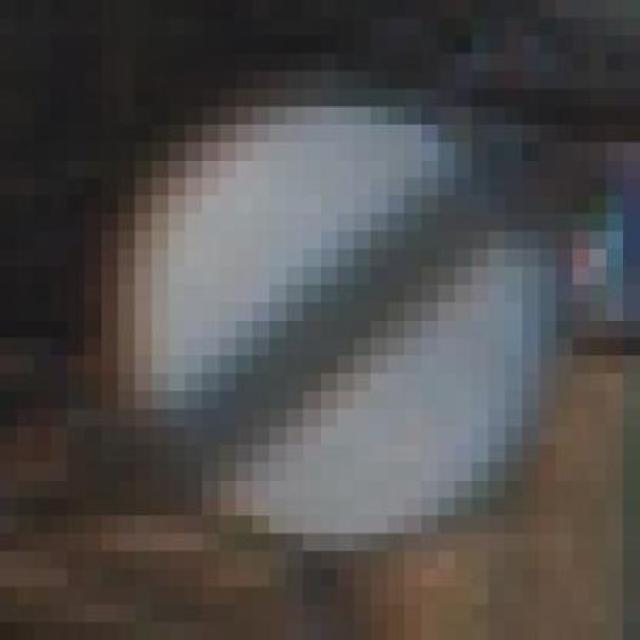End of all speed and passing limits: (101, 89, 573, 552)
